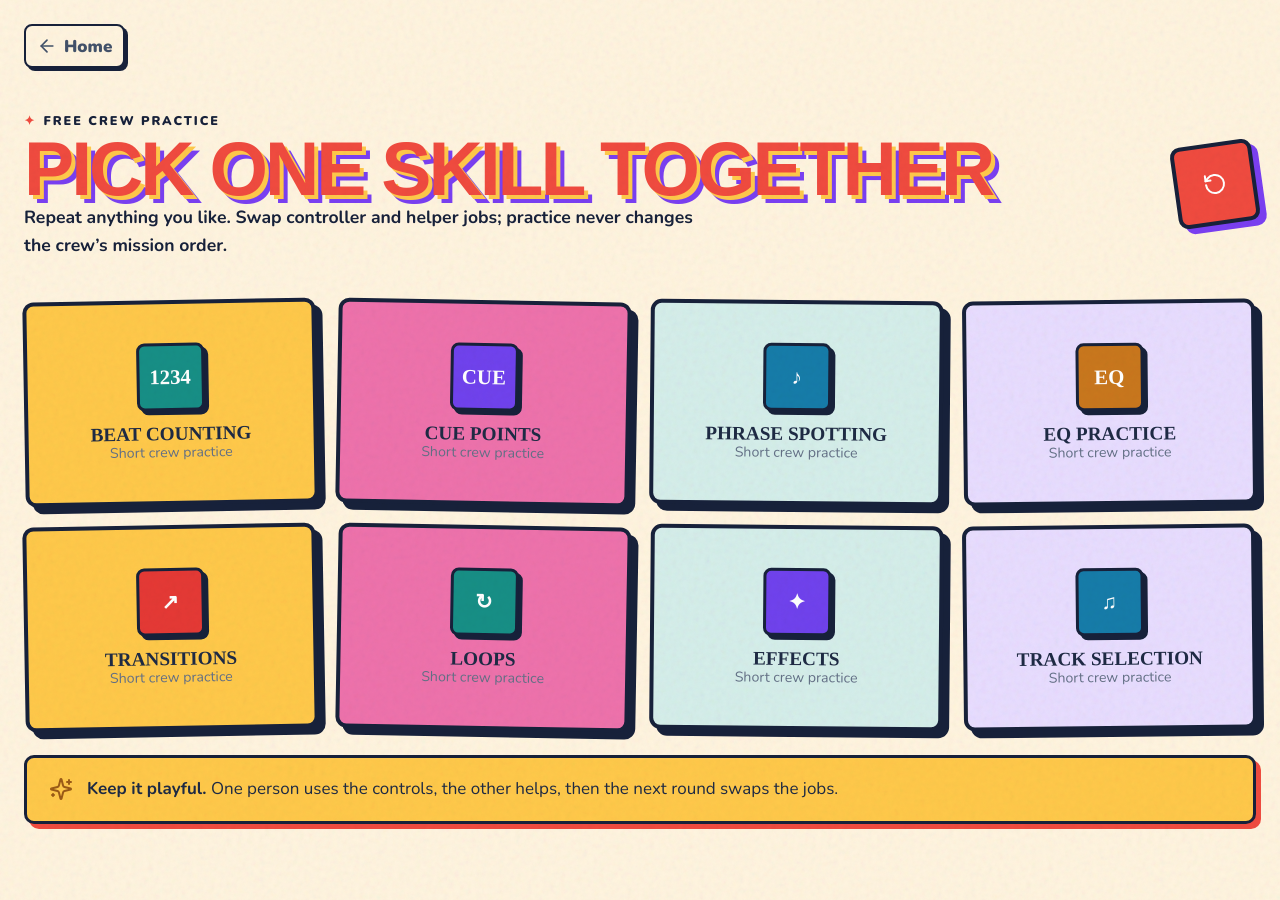
Test: cooperative practice › shows controller and helper jobs, then swaps them for the next round
Click the button "1234 Beat counting Short crew practice". click: (170, 402)
box: [22, 297, 319, 507]
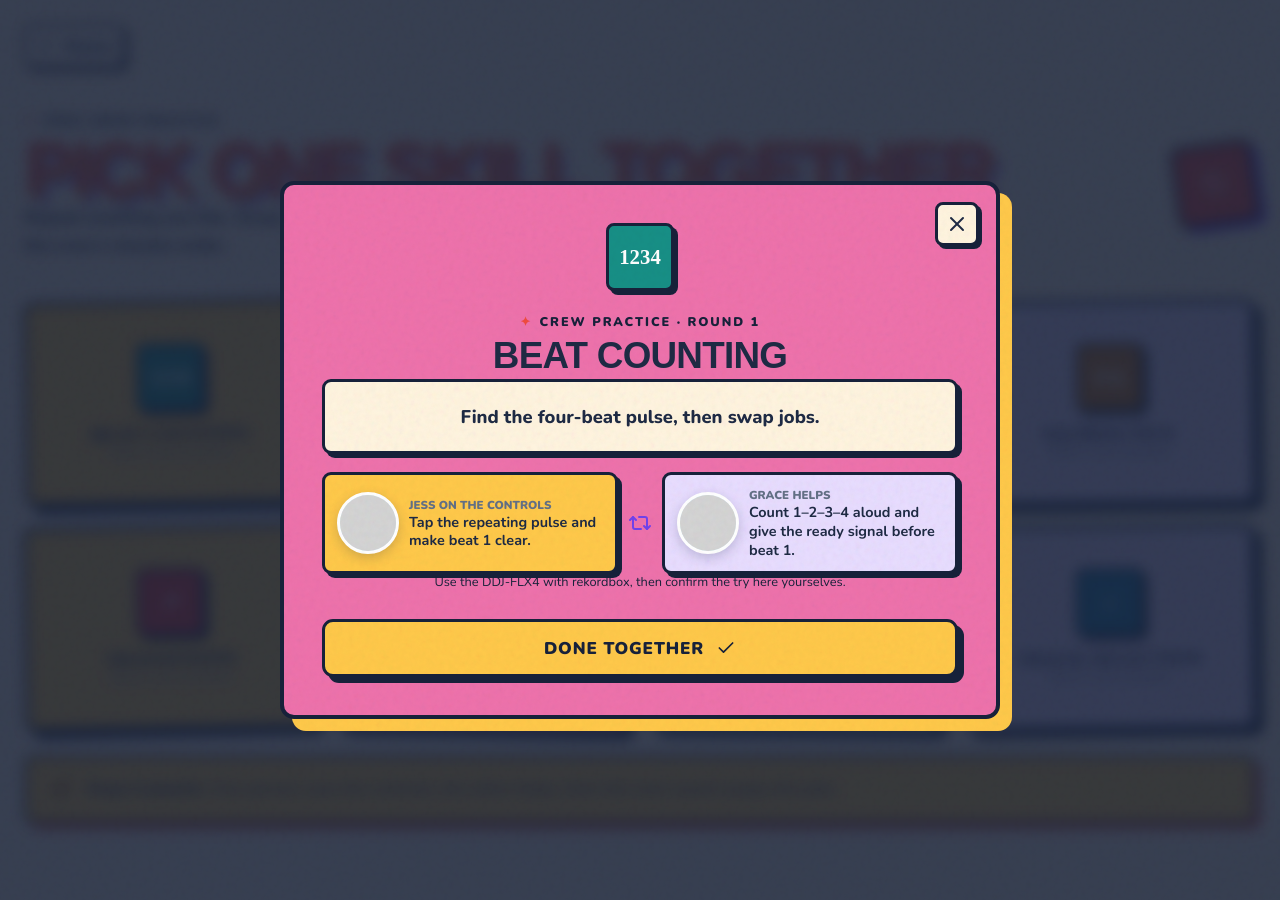
Now the text "Jess on the controls" is shown, box [409, 497, 552, 513]
Now the text "Grace helps" is shown, box [749, 487, 831, 503]
Click the button "Done together". click: (640, 648)
box: [322, 619, 958, 677]
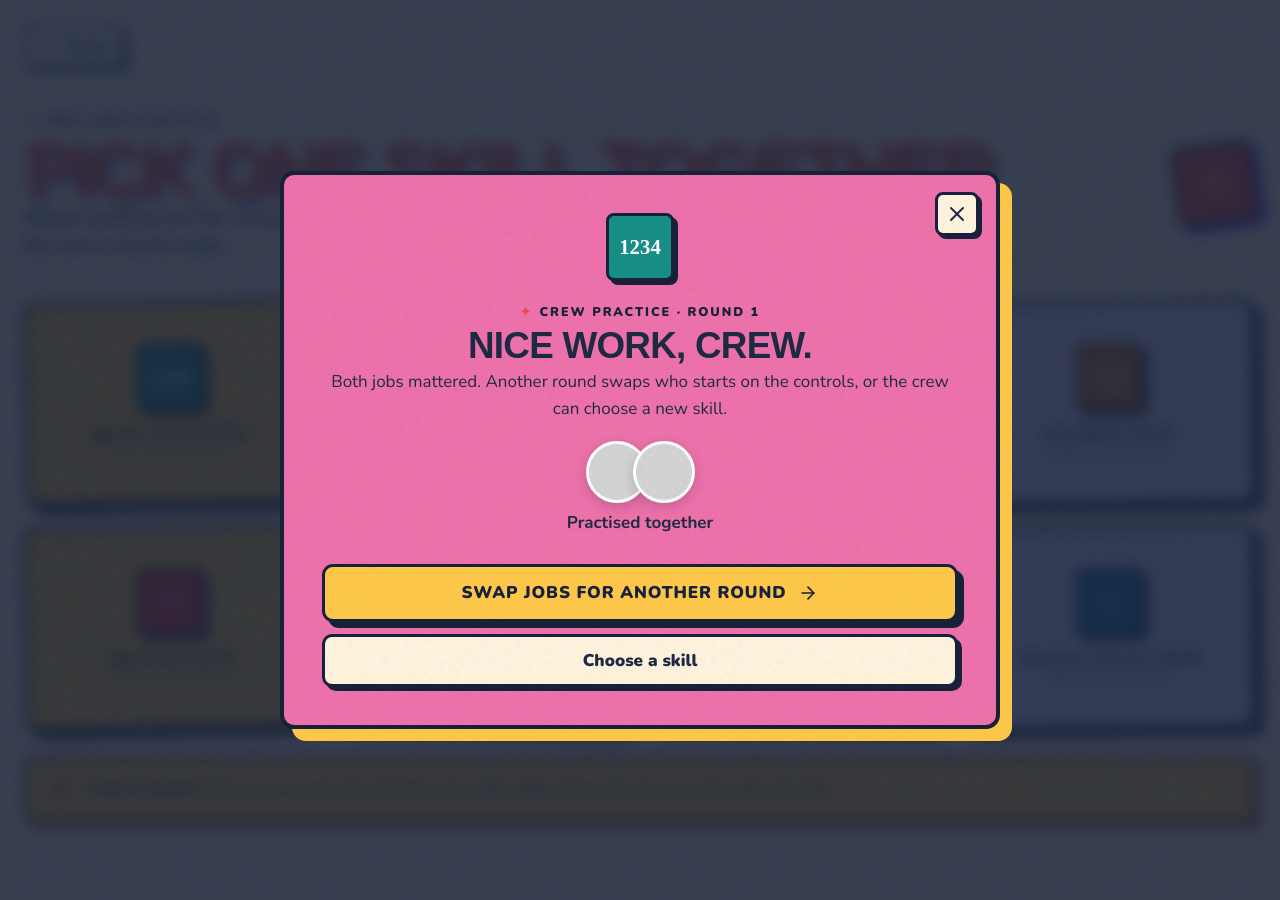
Now the text "Practised together" is shown, box [567, 511, 713, 534]
Click the button "Swap jobs for another round". click: (640, 593)
box: [322, 564, 958, 622]
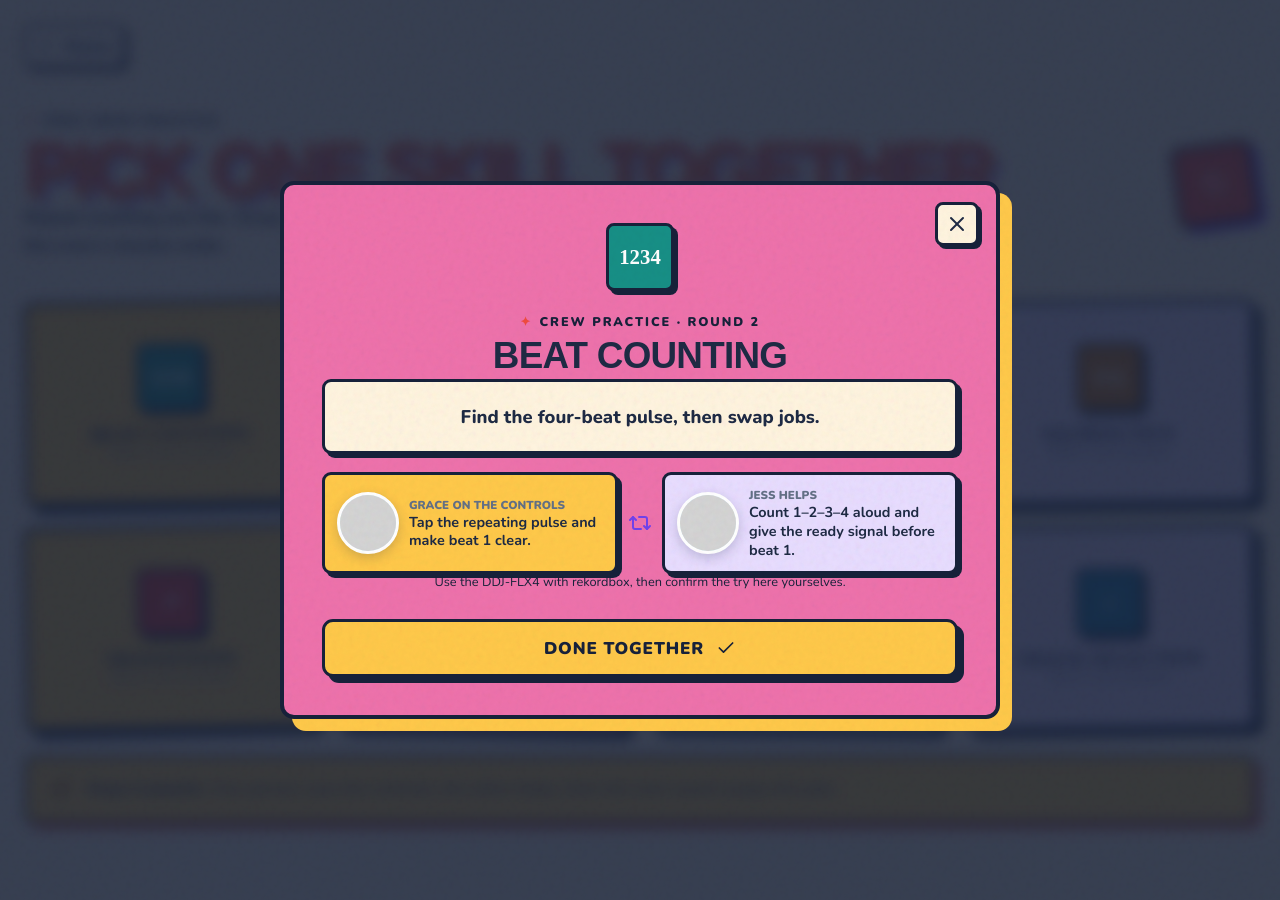
Now the text "Grace on the controls" is shown, box [409, 497, 565, 513]
Now the text "Jess helps" is shown, box [749, 487, 817, 503]
